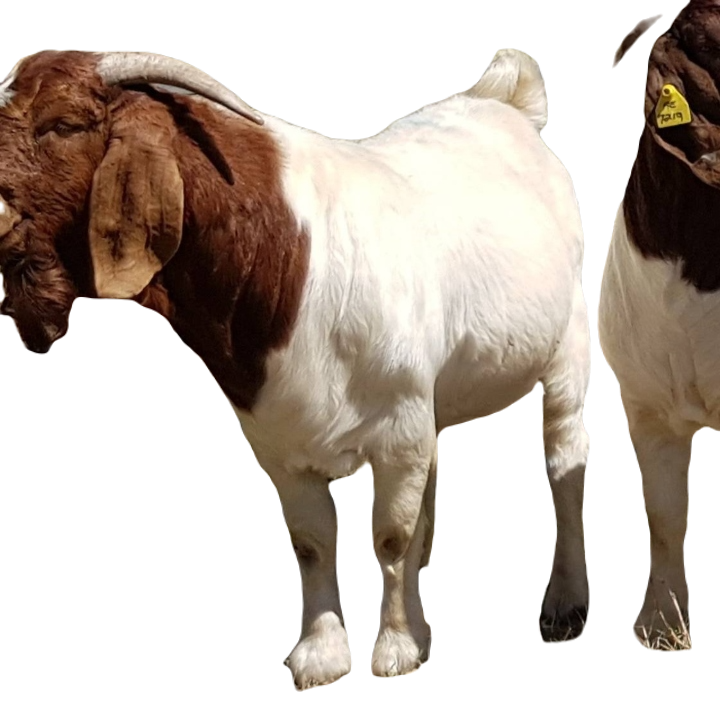Goat: (1, 44, 599, 692)
